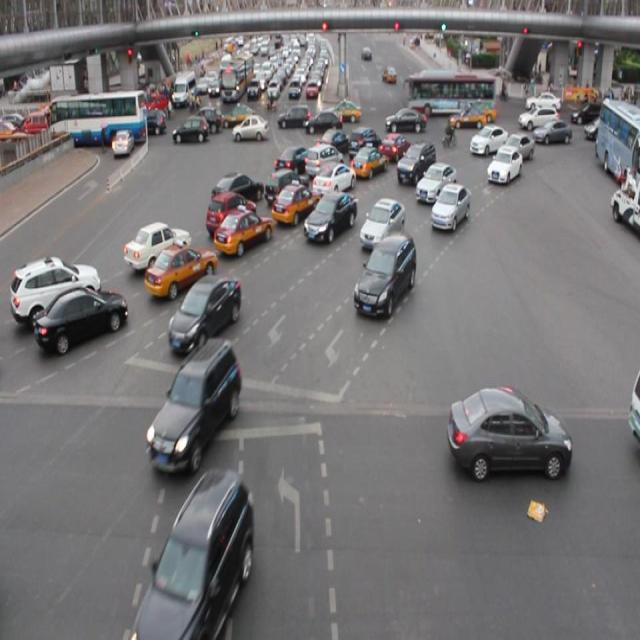car: (136, 470, 250, 640), (149, 341, 236, 472), (448, 385, 568, 479), (10, 255, 99, 323), (34, 284, 128, 348), (169, 272, 240, 349), (353, 233, 414, 316), (145, 243, 217, 297), (124, 222, 192, 270), (215, 204, 272, 256), (303, 191, 357, 245), (205, 191, 257, 237), (359, 197, 404, 250), (272, 182, 319, 226), (415, 160, 456, 207), (211, 172, 264, 206), (431, 183, 468, 231), (263, 170, 307, 208), (396, 141, 434, 185), (311, 162, 354, 198), (273, 144, 314, 180), (484, 144, 519, 185), (351, 144, 386, 180), (470, 122, 508, 154), (346, 128, 380, 162), (315, 128, 350, 159), (378, 132, 409, 164), (498, 134, 531, 162)
truck: (304, 144, 343, 181)
